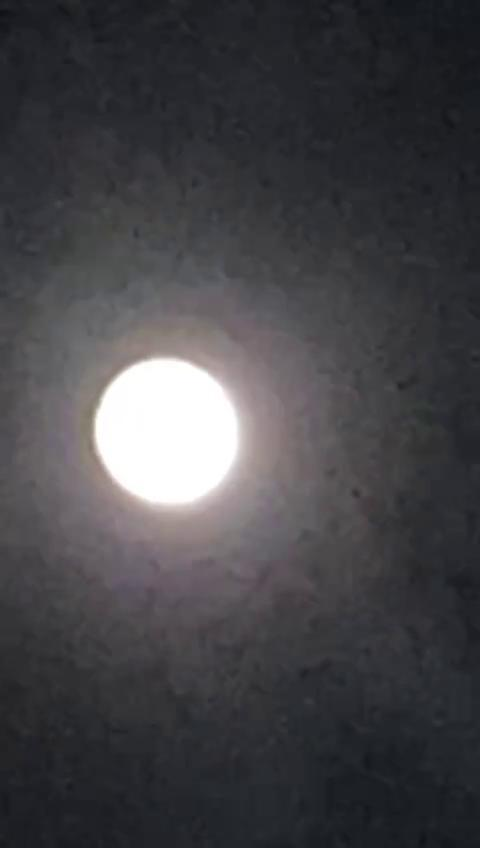moon: (84, 350, 247, 516)
